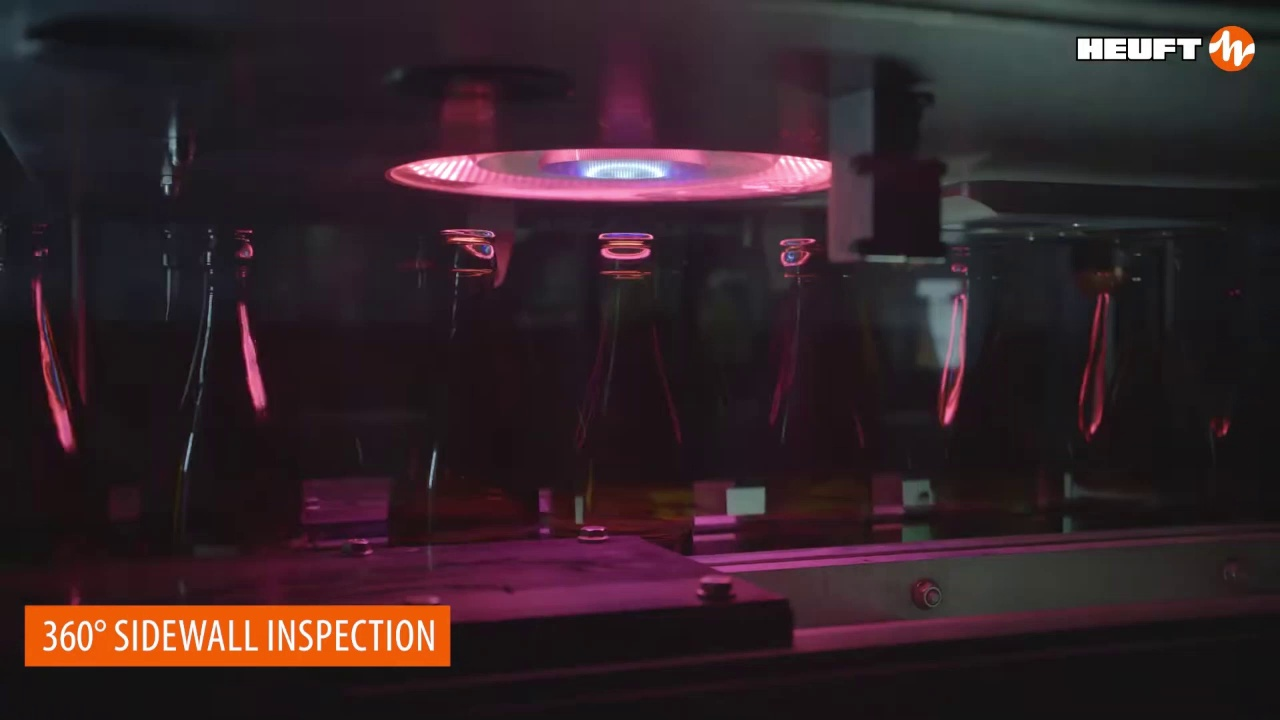bottle: (561, 234, 696, 558)
